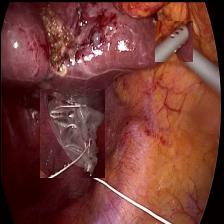Irrigator: (154, 20, 192, 61)
Specimen Bag: (39, 88, 104, 177)
